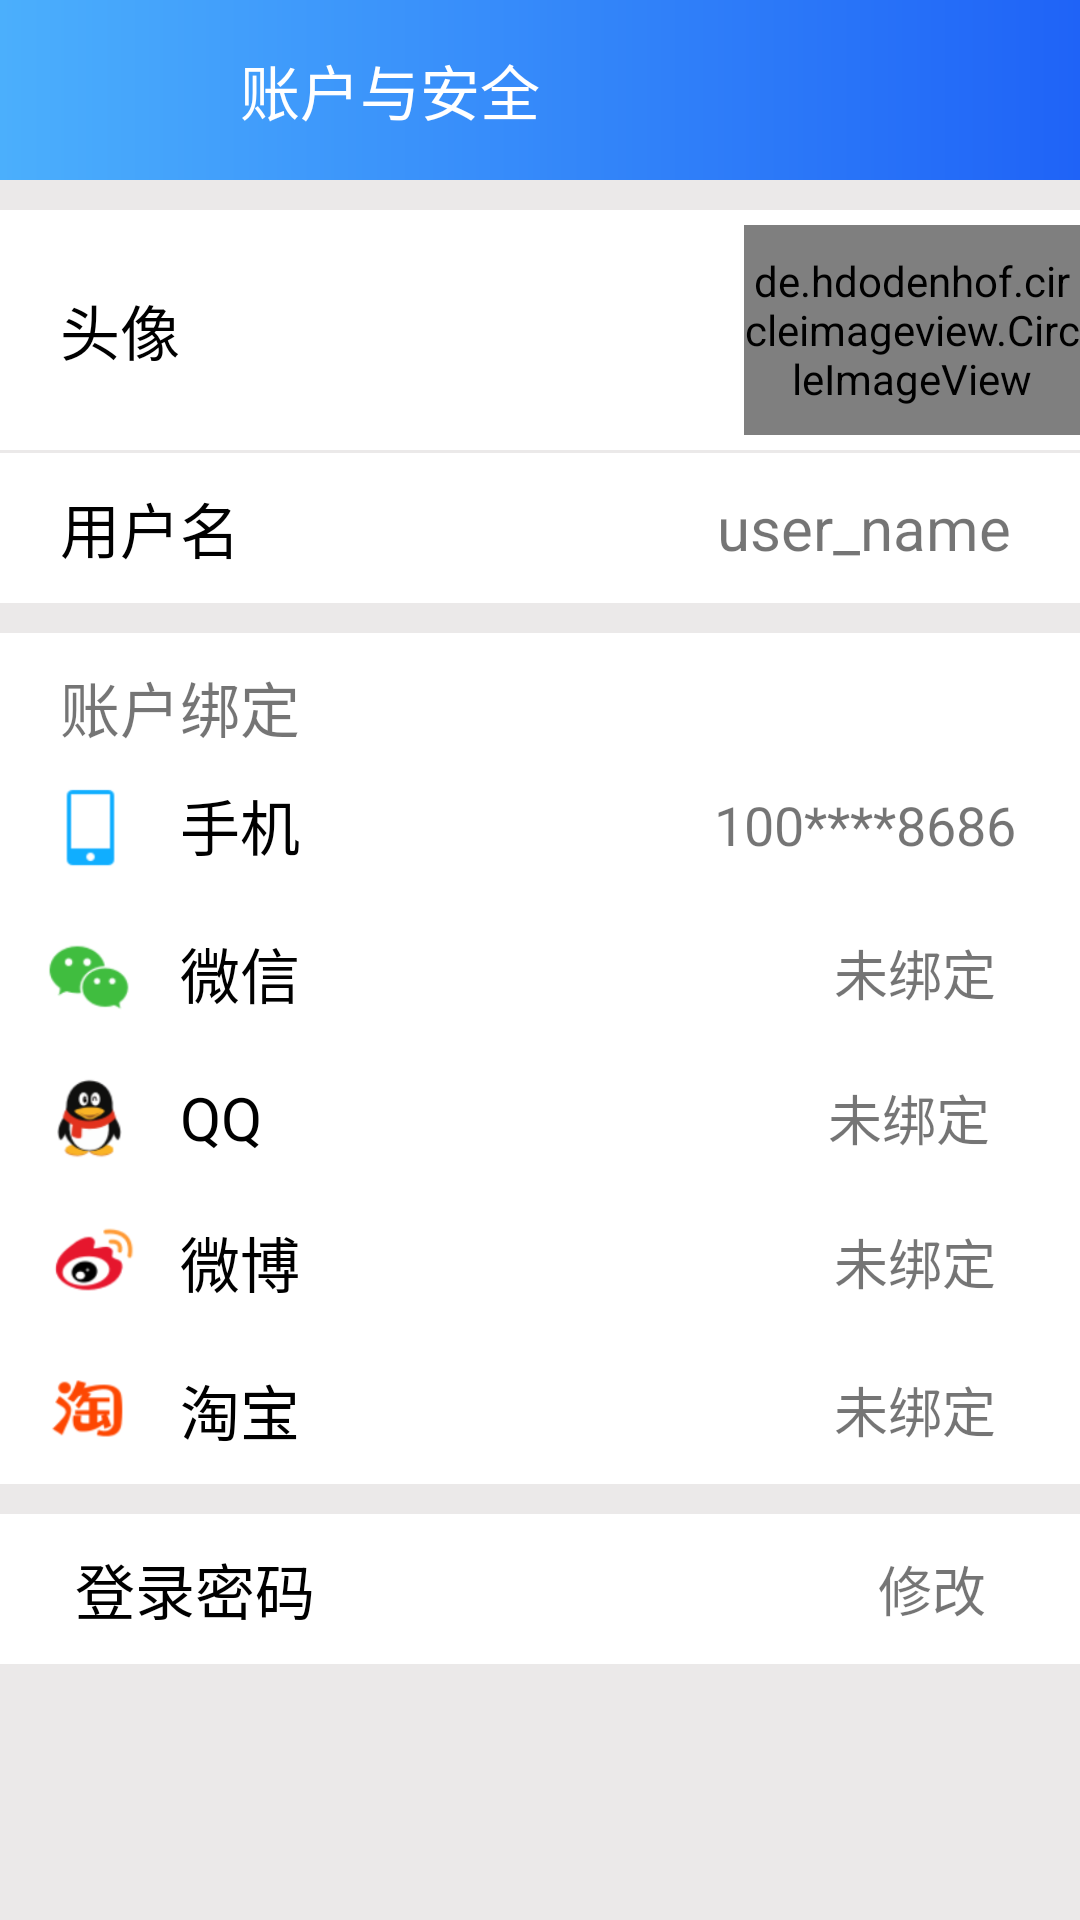

Where to tap for icons on this 1080 × 1920 app screen, as point (x, y):
phone: point (90, 827)
